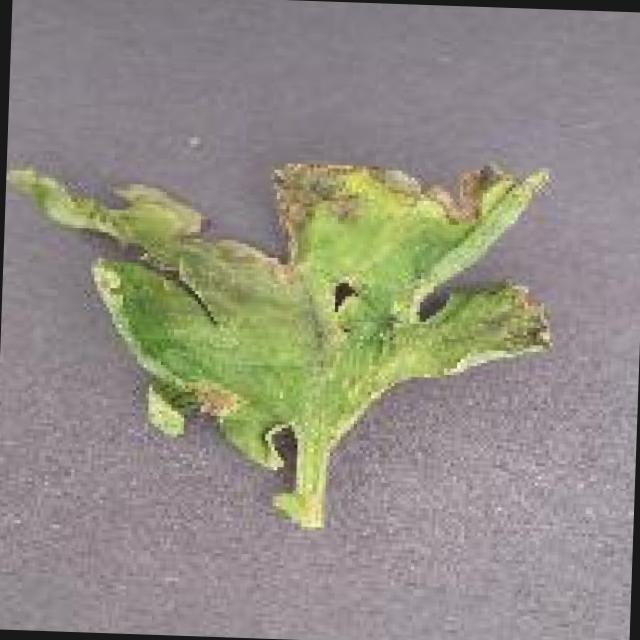leaf blight: (4, 152, 564, 532)
